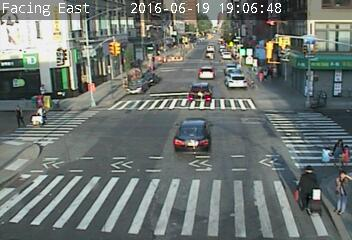neg: (130, 135, 158, 173), (215, 83, 240, 116), (186, 115, 204, 139), (301, 32, 319, 56), (210, 24, 227, 47), (307, 80, 322, 101), (96, 155, 111, 175), (129, 85, 142, 103), (108, 103, 121, 120), (104, 56, 117, 73), (168, 32, 180, 47), (271, 41, 281, 54)
pos: (286, 160, 328, 215), (324, 173, 351, 212), (326, 129, 351, 161), (6, 99, 27, 128), (334, 142, 351, 171), (30, 104, 46, 126), (319, 144, 334, 164), (36, 80, 48, 96)
